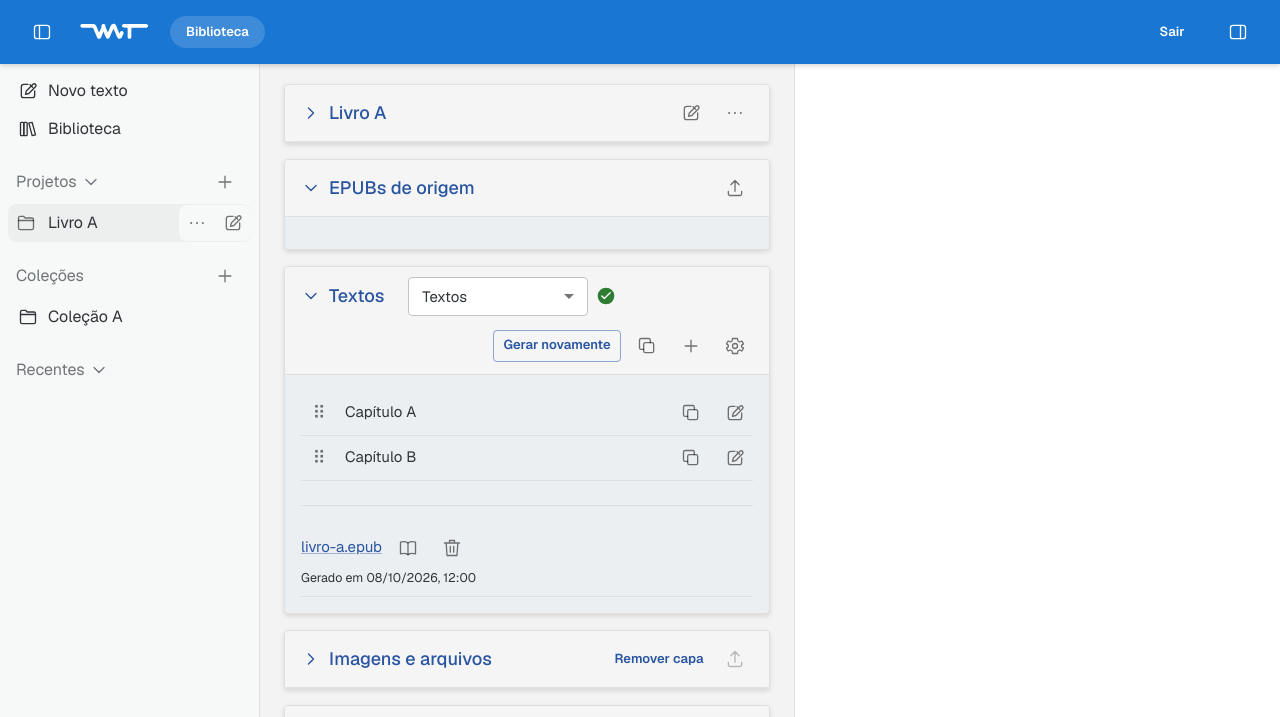
Scenario: preserves an in-flight generation and its failure while its area is collapsed
Expected: the heading "Livro A" is shown, left=329, top=101, right=386, bottom=125
Click the button "Gerar novamente".
click(557, 346)  # box left=494, top=330, right=621, bottom=362
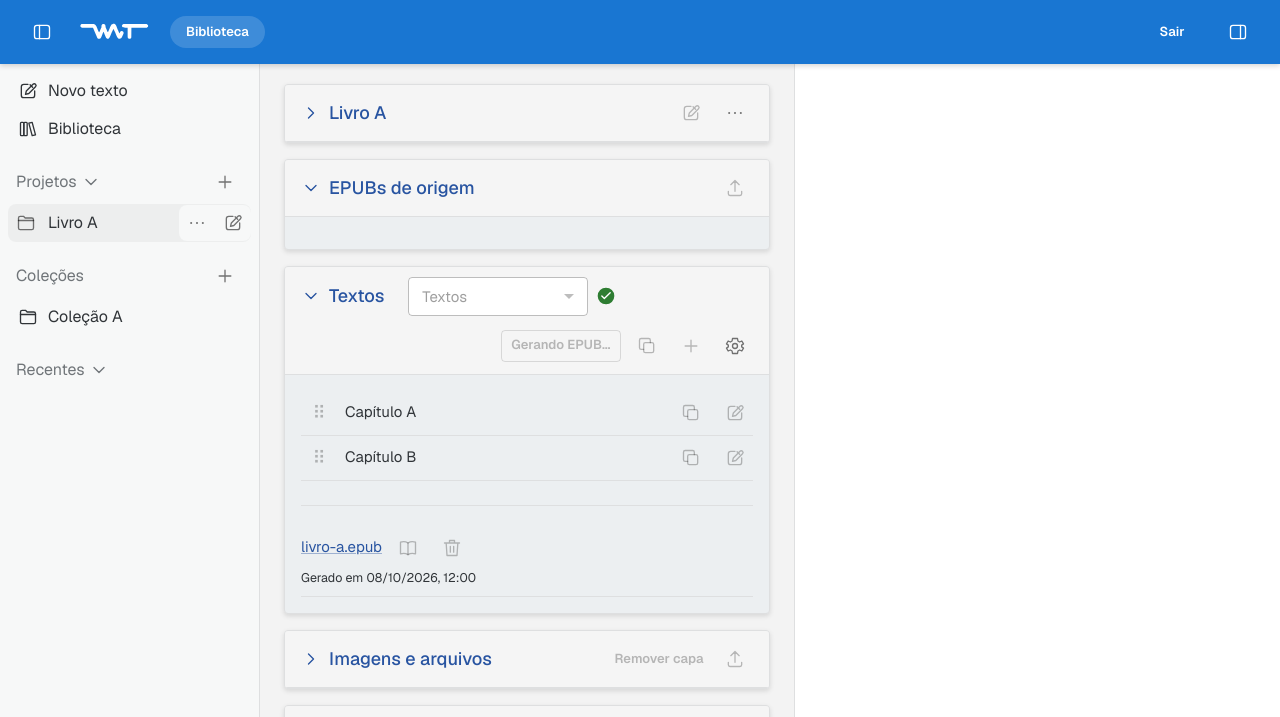
Expected: the button "Gerando EPUB…" is disabled, left=501, top=330, right=621, bottom=362
Click the button named "Configurar grupos".
click(735, 346)  # box left=717, top=328, right=753, bottom=364
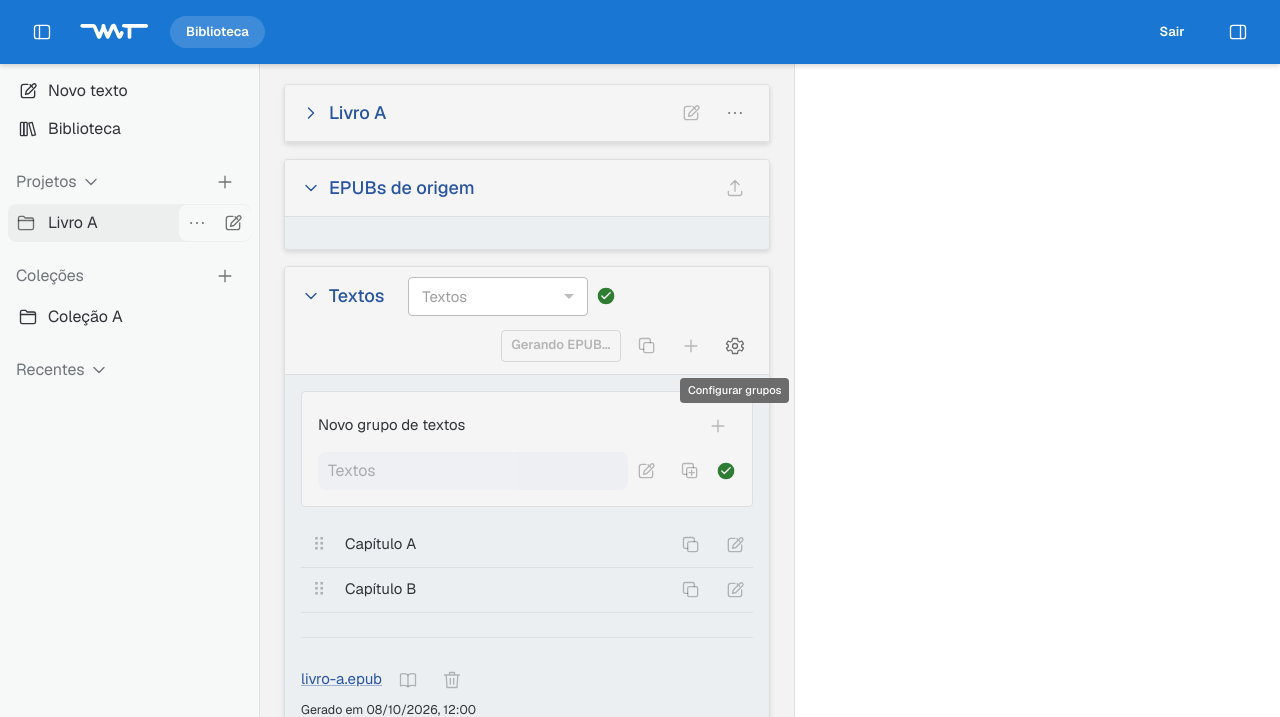
Expected: the button named "Novo grupo de textos" is disabled, left=700, top=408, right=736, bottom=444
Click the 1st button "Textos".
click(343, 296)  # box left=301, top=284, right=384, bottom=308
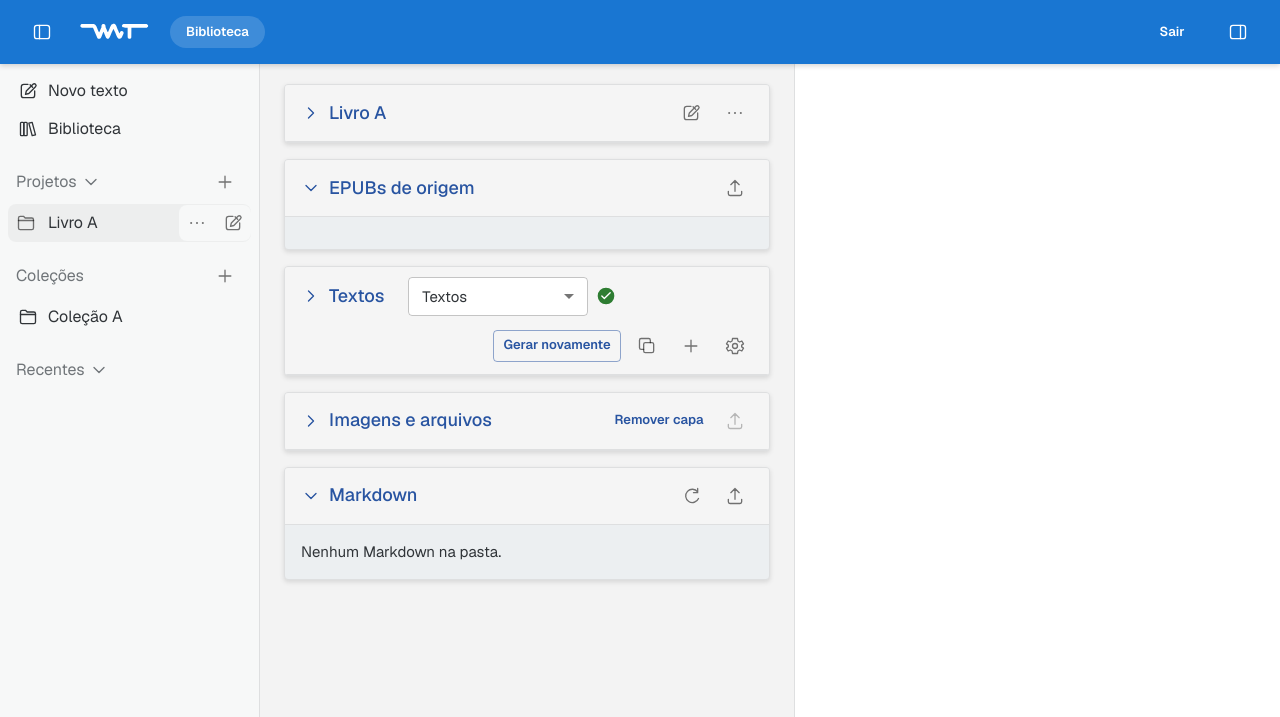
Click the button "Textos".
click(343, 296)  # box left=301, top=284, right=384, bottom=308
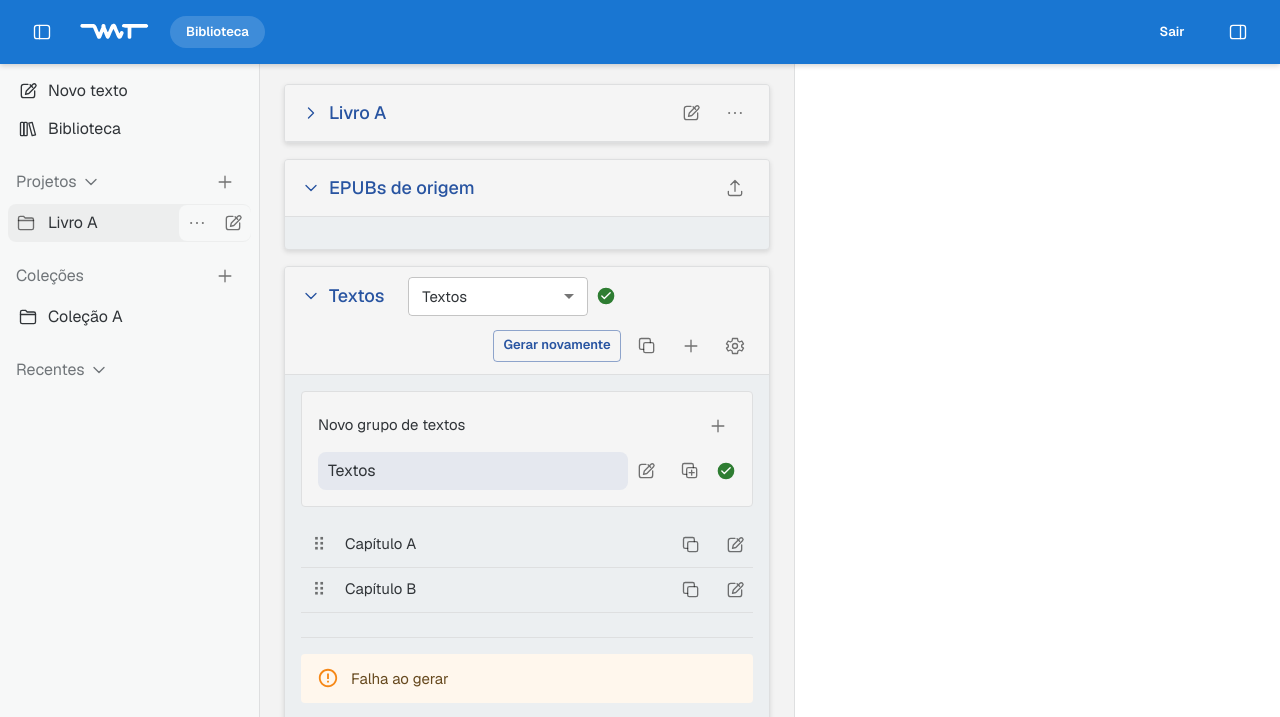
Expected: the button "Gerar novamente" is enabled, left=494, top=330, right=621, bottom=362
Expected: the message reads "Falha ao gerar", left=351, top=669, right=449, bottom=688
